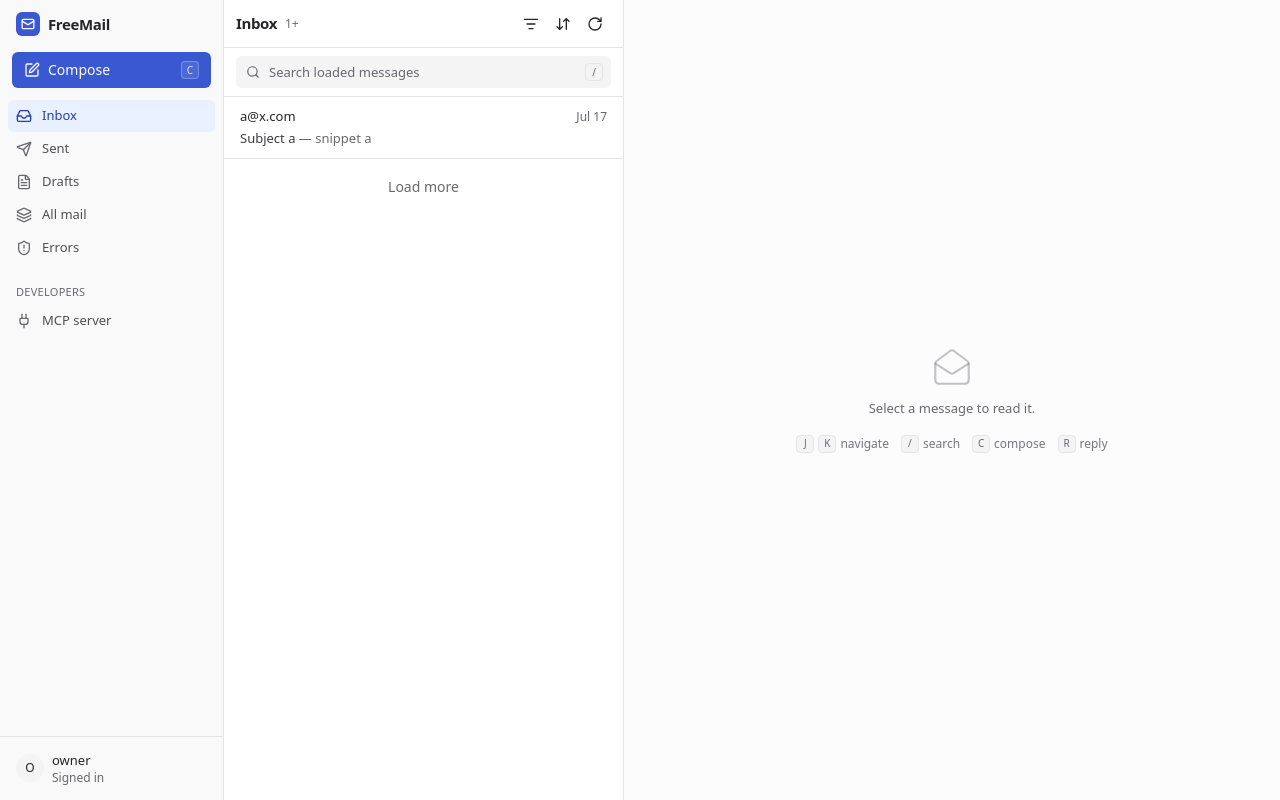
Scenario: AppShell — message list › paginates with Load more and drops the button when exhausted
The image size is (1280, 800).
Expected: the text "Subject a" is shown, [240,128,296,146]
Click the button "Load more": x=424, y=187 [236,171,611,203]
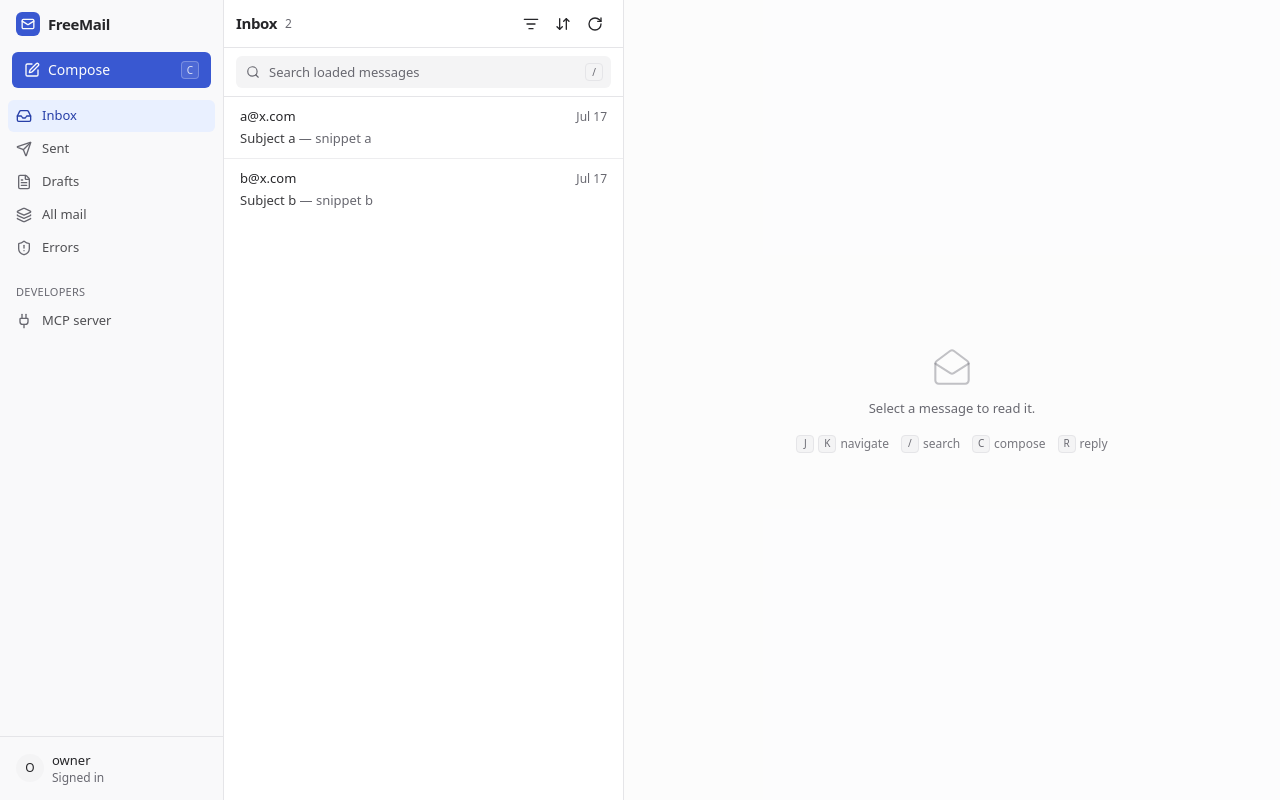
Result: the text "Subject b" is shown at [240,190,296,208]
Result: the button "Load more" is gone
